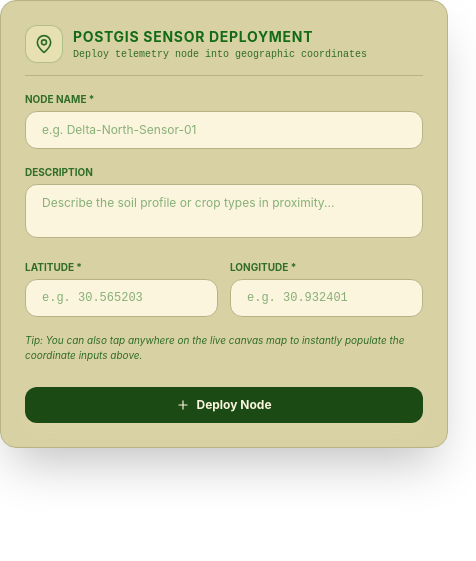
Test case: AddSensorForm Component › validates coordinate range limits
In the field with placeholder "e.g. Delta-North-Sensor-01": (224, 130) left=25, top=111, right=423, bottom=149, type "Delta Node 01"
In the field with placeholder "e.g. 30.565203": (122, 298) left=25, top=279, right=218, bottom=317, type "120.5"
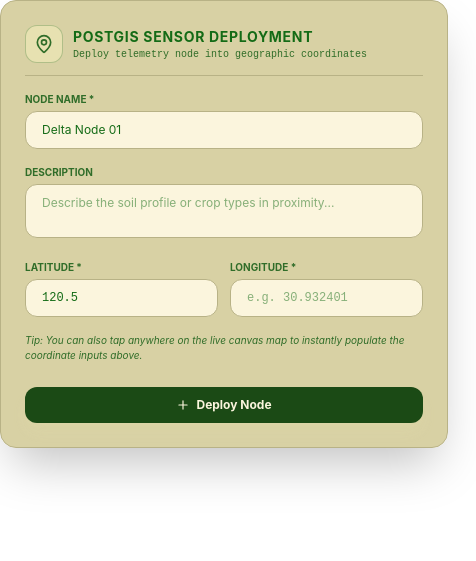
In the field with placeholder "e.g. 30.932401": (326, 298) left=230, top=279, right=423, bottom=317, type "30.2"
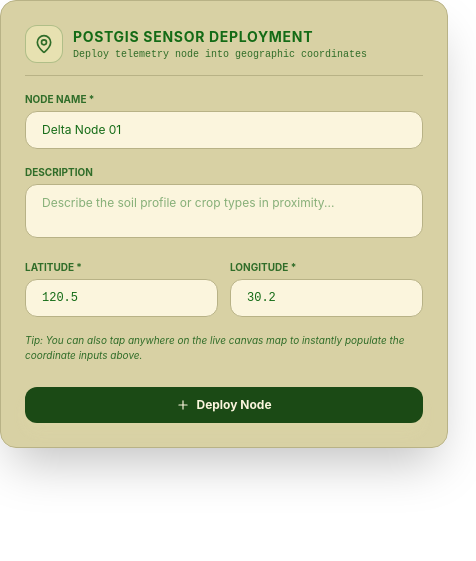
Click the button "Deploy Node": (224, 405) left=25, top=387, right=423, bottom=423
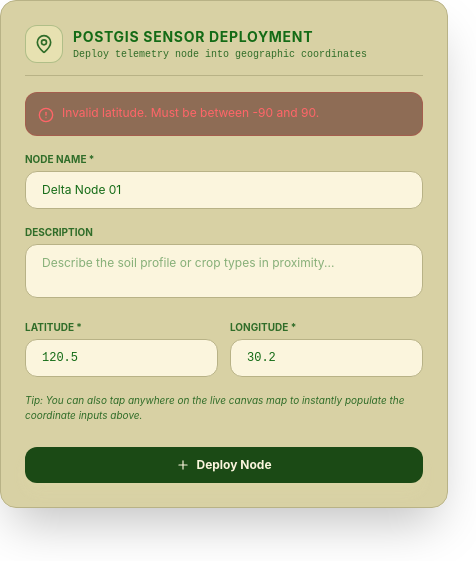
Expected: the text "Invalid latitude. Must be between -90 and 90." is shown, left=62, top=105, right=319, bottom=121
Replace the text in the field with placeholder "e.g. 30.565203" with "30.5": (122, 358) left=25, top=339, right=218, bottom=377
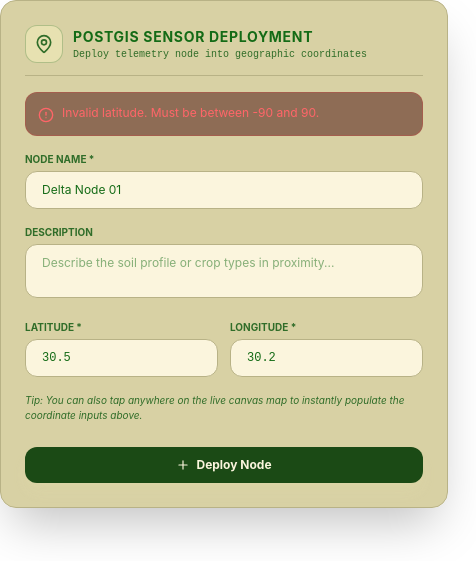
Replace the text in the field with placeholder "e.g. 30.932401" with "-220.0": (326, 358) left=230, top=339, right=423, bottom=377
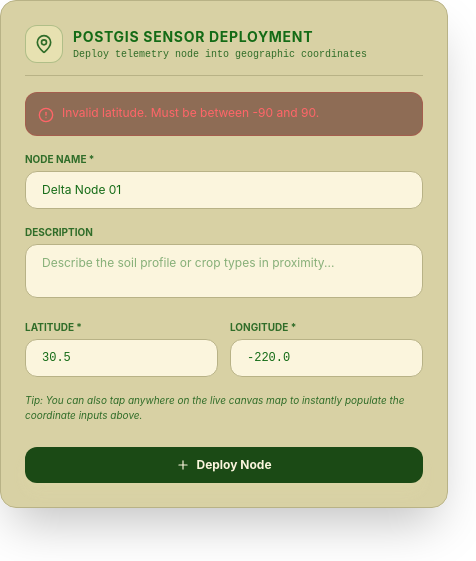
Click the button "Deploy Node": (224, 465) left=25, top=447, right=423, bottom=483
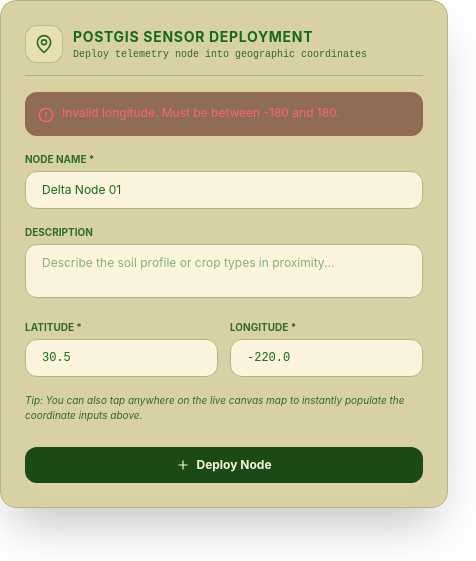
Expected: the text "Invalid longitude. Must be between -180 and 180." is shown, left=62, top=105, right=340, bottom=121
